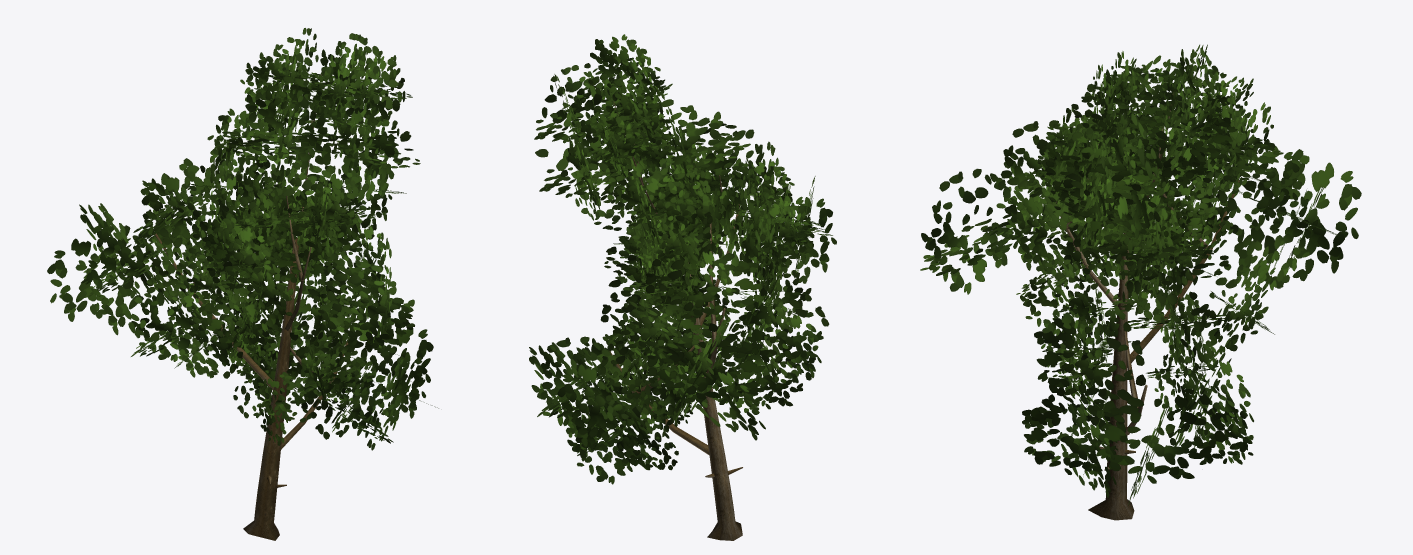
File: env_tree_prairie_mature_03.glb
The picture shows the model from 3 angles, left to right: view 1: azimuth 30°, elevation 25°; view 2: azimuth 150°, elevation 25°; view 3: azimuth 270°, elevation 25°; orthographic projection. The views are drawn at different scales.
Parts seen in each view (by area): view 1: tree_prairie_mature_03; view 2: tree_prairie_mature_03; view 3: tree_prairie_mature_03.
Boxes of the visible parts, x1,y1,x2,y2 form: tree_prairie_mature_03: [47, 28, 438, 540]; tree_prairie_mature_03: [529, 34, 836, 540]; tree_prairie_mature_03: [920, 44, 1361, 520].
Size of the model in its own units: 8.77 by 10.95 by 9.55.
Materials: 2 (2 with a texture image).
